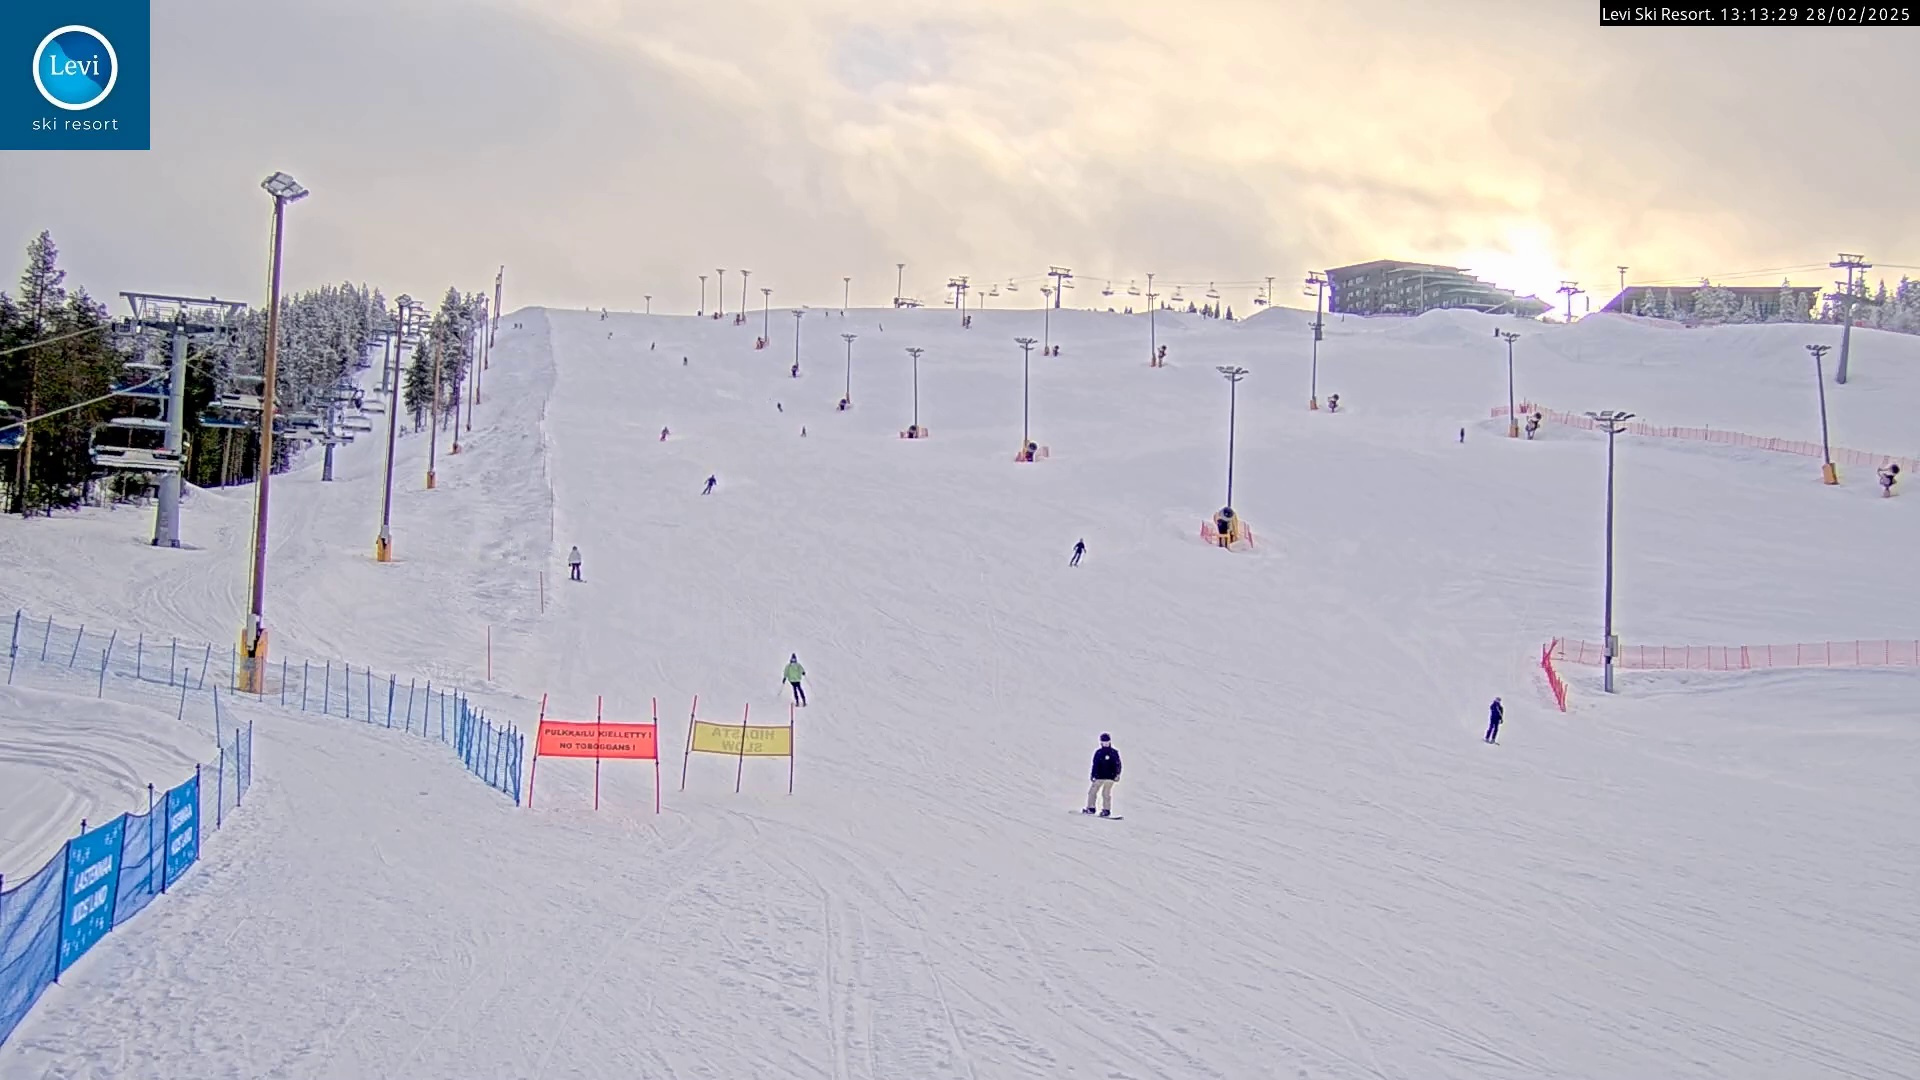skier: (1482, 695, 1507, 744)
snowboarder: (1069, 732, 1125, 820)
